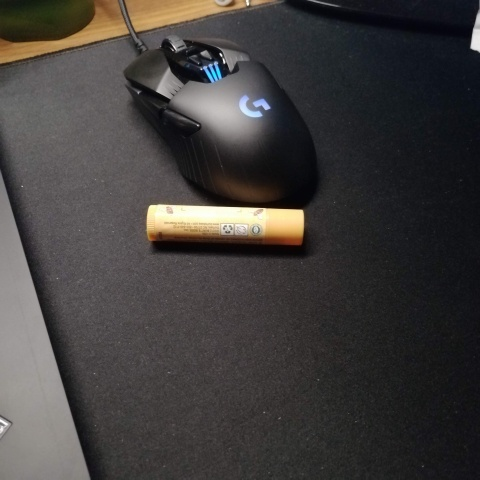chapstick: (144, 202, 308, 251)
